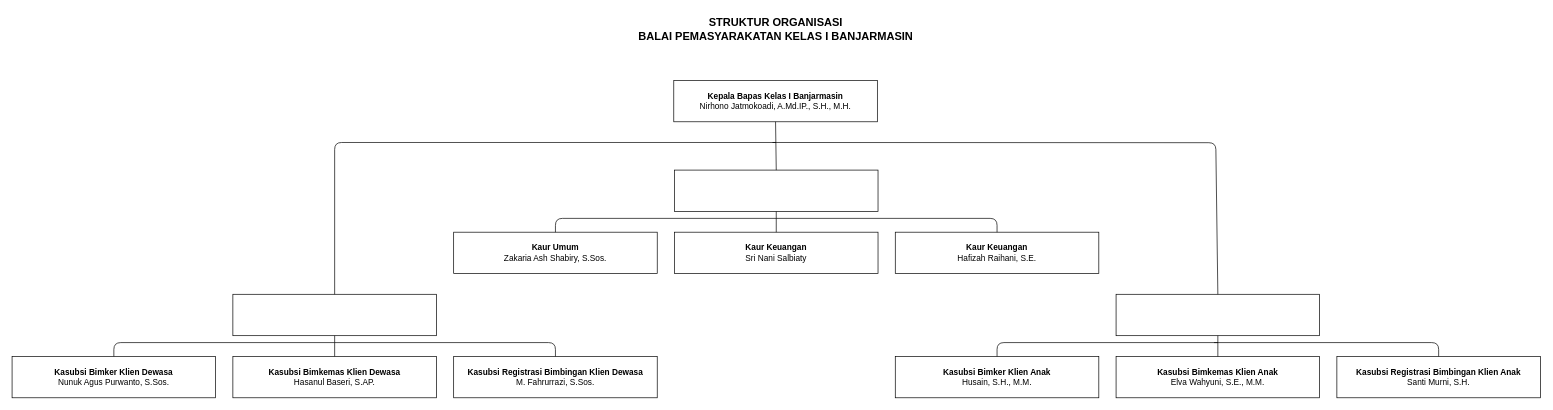
Some shapes in this 1553 by 410 pixel diagram are drawn without their labels. The centre of each missing label's shape, as x and y in pixels:
"Kasi Bimbingan Klien Anak Fitriyadi Sukma, S.H., M.M." goes at (x=1217, y=315).
"Kasi Bimbingan Klien Dewasa Zulfiqar Rahman, S.E., M.M." goes at (x=334, y=315).
"Kasubbag Tata Usaha Saifullah, S.Sos." goes at (x=776, y=190).
